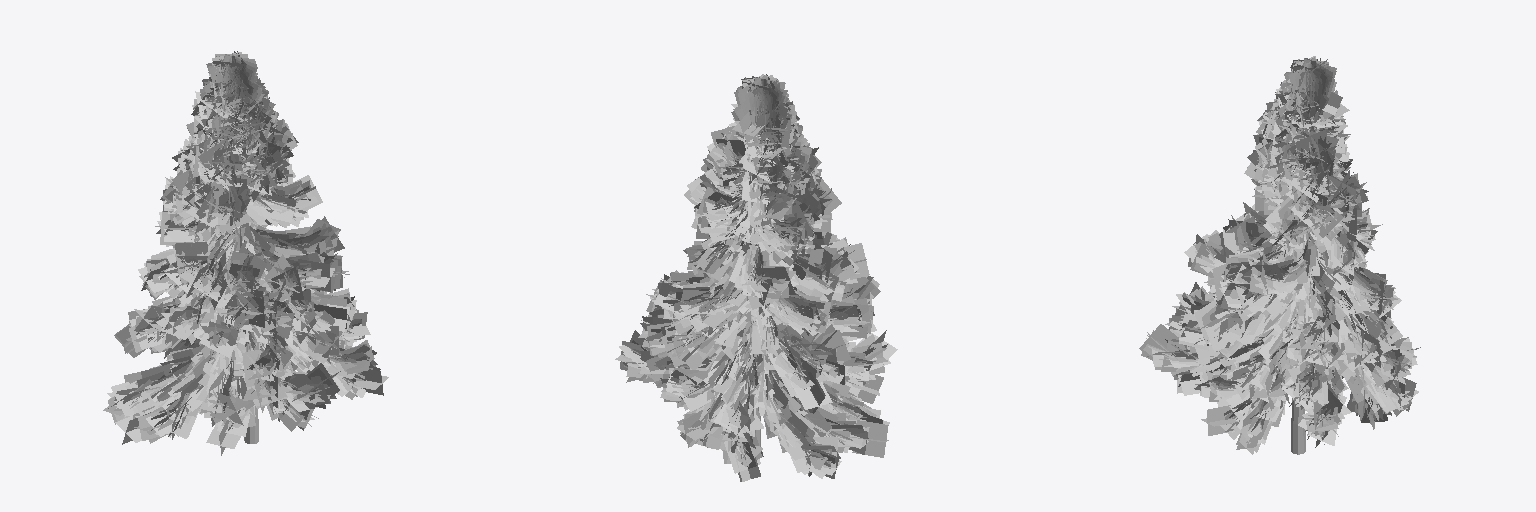
The model's file is tree_8.obj.
3 renders of one model, left to right at view 1: azimuth 30°, elevation 25°; view 2: azimuth 150°, elevation 25°; view 3: azimuth 270°, elevation 25°, orthographic.
Parts seen in each view (by area): view 1: Mesh_1.008; view 2: Mesh_1.008; view 3: Mesh_1.008, Mesh_0.008.
Boxes of the visible parts, box(x1,y1,x2,y2) form: Mesh_1.008: box(103, 51, 388, 455); Mesh_1.008: box(615, 74, 897, 481); Mesh_1.008: box(1139, 56, 1420, 454); Mesh_0.008: box(1233, 232, 1310, 454).
Bounding box in the file's own units: 48.87 × 71.02 × 46.98.